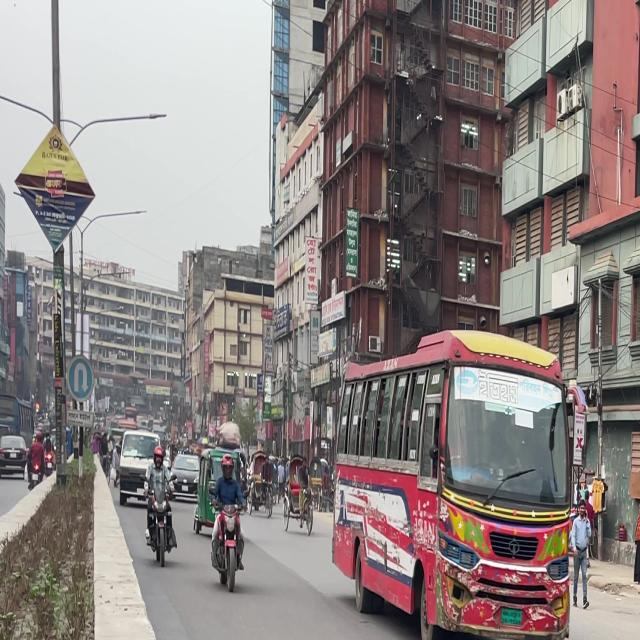bus: (327, 329, 576, 640)
motorbike: (208, 485, 250, 589), (140, 476, 180, 569)
